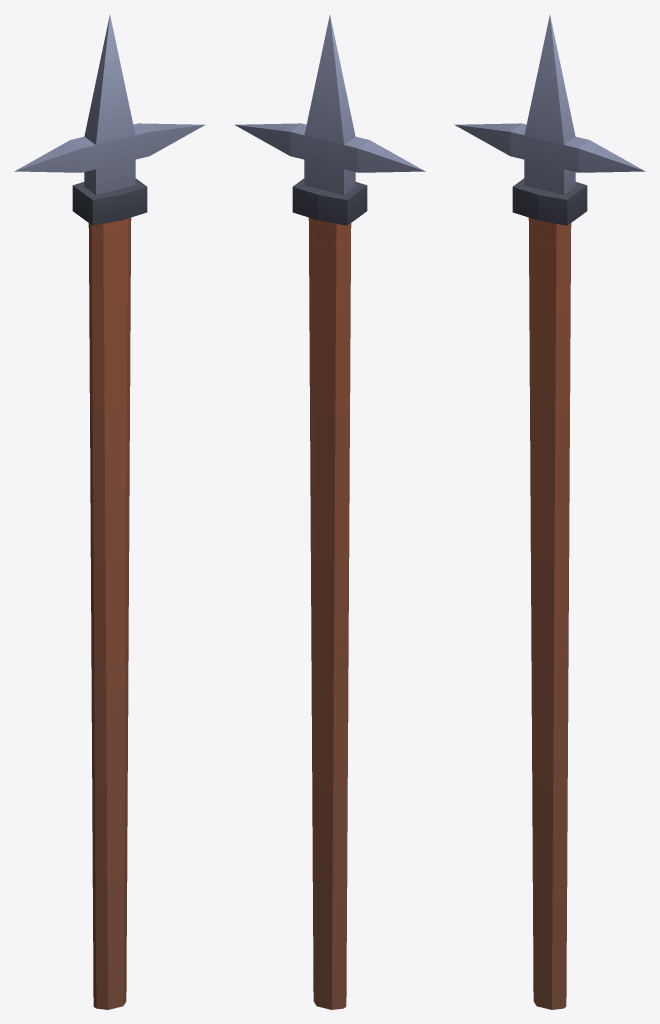
The model's file is Attach_Spear.fbx.
The picture shows the model from 3 angles, left to right: view 1: azimuth 30°, elevation 25°; view 2: azimuth 150°, elevation 25°; view 3: azimuth 330°, elevation 25°; orthographic projection.
Visible parts, largest first — view 1: Attach_Spear; view 2: Attach_Spear; view 3: Attach_Spear.
Part boxes in pixels (x1,y1,x2,y2): Attach_Spear: (14,15,205,1009); Attach_Spear: (234,15,425,1009); Attach_Spear: (454,15,645,1009).
Bounding box in the file's own units: 0.4826 × 0.1036 × 2.38.
